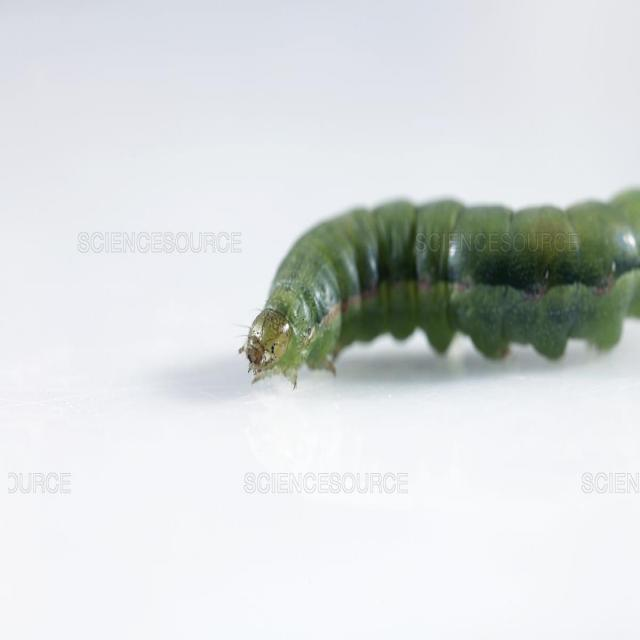BeetArmyWorm-Larva-: (229, 170, 639, 404)
